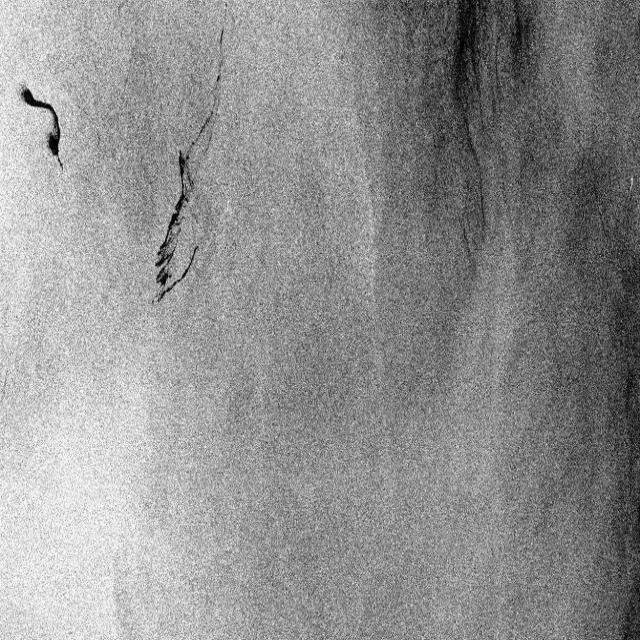look-alike: (388, 1, 540, 269), (594, 172, 640, 640)
oil-spill: (154, 16, 224, 305), (17, 73, 69, 179)
